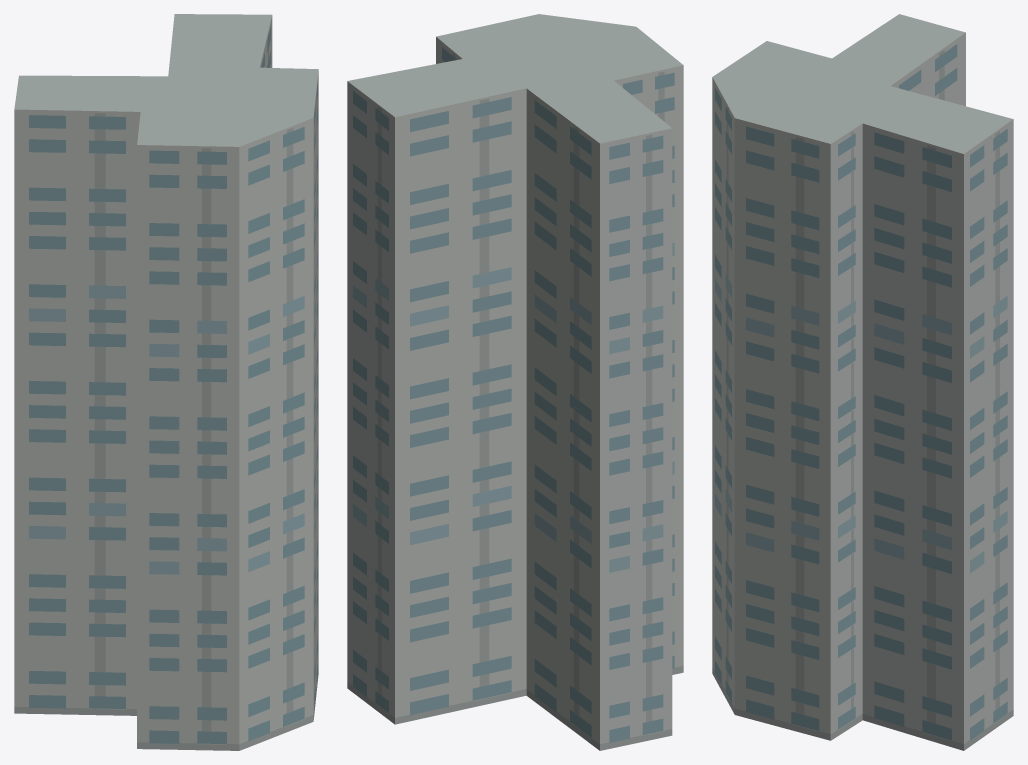
Rendered from residential-2f93052c-010f-4027-b881-991aebef83a9.glb.
3 views of the same model, side by side, from view 1: azimuth 30°, elevation 25°; view 2: azimuth 150°, elevation 25°; view 3: azimuth 270°, elevation 25° (orthographic).
Visible parts, largest first — view 1: residential-2f93052c-010f-4027-b881-991aebef83a9.tmp; view 2: residential-2f93052c-010f-4027-b881-991aebef83a9.tmp; view 3: residential-2f93052c-010f-4027-b881-991aebef83a9.tmp.
Boxes of the visible parts, x1,y1,x2,y2 form: residential-2f93052c-010f-4027-b881-991aebef83a9.tmp: (14, 14, 318, 750); residential-2f93052c-010f-4027-b881-991aebef83a9.tmp: (347, 14, 683, 750); residential-2f93052c-010f-4027-b881-991aebef83a9.tmp: (712, 14, 1013, 750).
Bounding box in the file's own units: 36.27 × 72 × 32.94.
